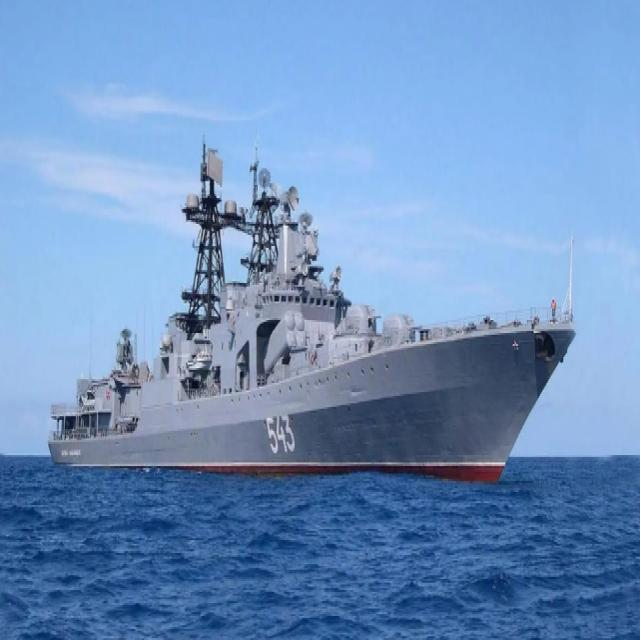navalvessels: (44, 116, 582, 500)
